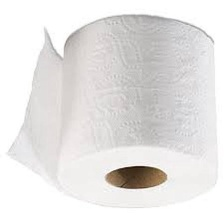tissue: (0, 9, 224, 215)
